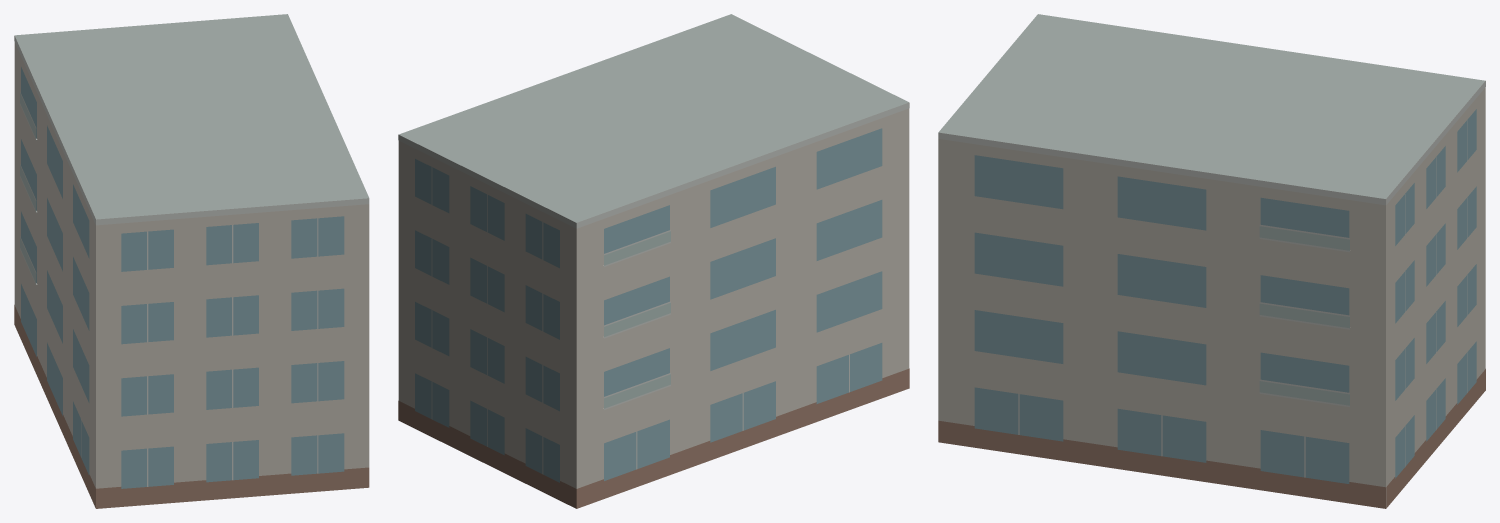
The model's file is survey-upis-32893419.glb.
3 renders of one model, left to right at view 1: azimuth 30°, elevation 25°; view 2: azimuth 150°, elevation 25°; view 3: azimuth 270°, elevation 25°, orthographic. The views are drawn at different scales.
Parts seen in each view (by area): view 1: survey-upis-32893419.tmp; view 2: survey-upis-32893419.tmp; view 3: survey-upis-32893419.tmp.
Boxes of the visible parts, box(x1,y1,x2,y2) form: survey-upis-32893419.tmp: box(14, 14, 369, 508); survey-upis-32893419.tmp: box(398, 14, 909, 508); survey-upis-32893419.tmp: box(938, 14, 1485, 508).
Size of the model in its own units: 15.39 by 12 by 19.23.
